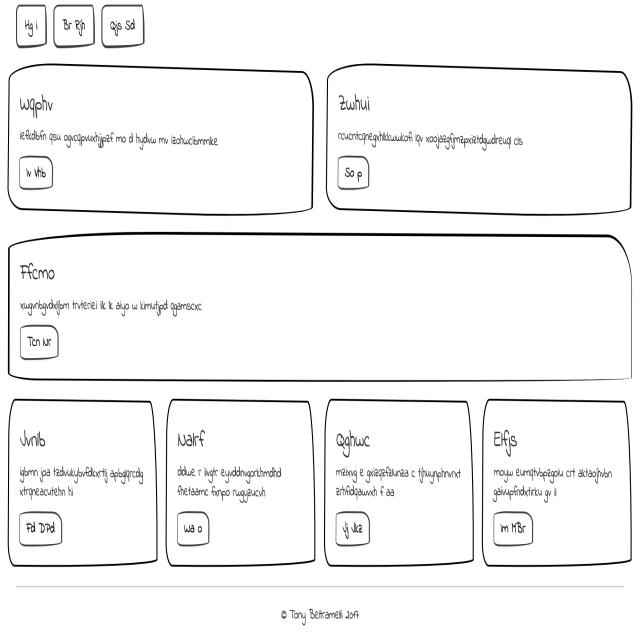Button: (18, 507, 64, 547), (489, 508, 535, 547), (17, 321, 60, 360), (334, 506, 371, 548), (17, 154, 56, 193), (175, 507, 211, 548), (336, 152, 369, 189)
Card: (7, 230, 633, 384), (326, 60, 634, 216), (8, 62, 316, 214), (325, 394, 476, 567), (8, 396, 160, 567), (166, 399, 317, 569), (483, 395, 632, 566)
Footer: (0, 583, 640, 640)
Heading 6: (330, 422, 373, 458), (18, 255, 60, 290), (332, 83, 375, 115), (489, 423, 521, 460), (175, 424, 213, 452), (16, 93, 56, 118), (18, 424, 48, 454)
Navigation Bar: (13, 1, 146, 48)
Paragraph: (333, 461, 463, 501), (17, 460, 145, 500), (491, 462, 611, 503), (335, 124, 524, 150), (16, 294, 207, 319), (172, 462, 285, 503), (18, 128, 222, 150)
